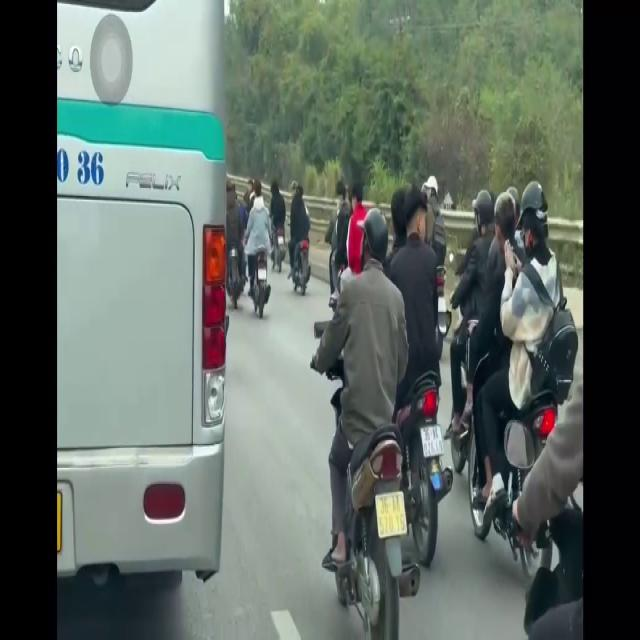helmet: (519, 176, 552, 274), (358, 207, 387, 298)
